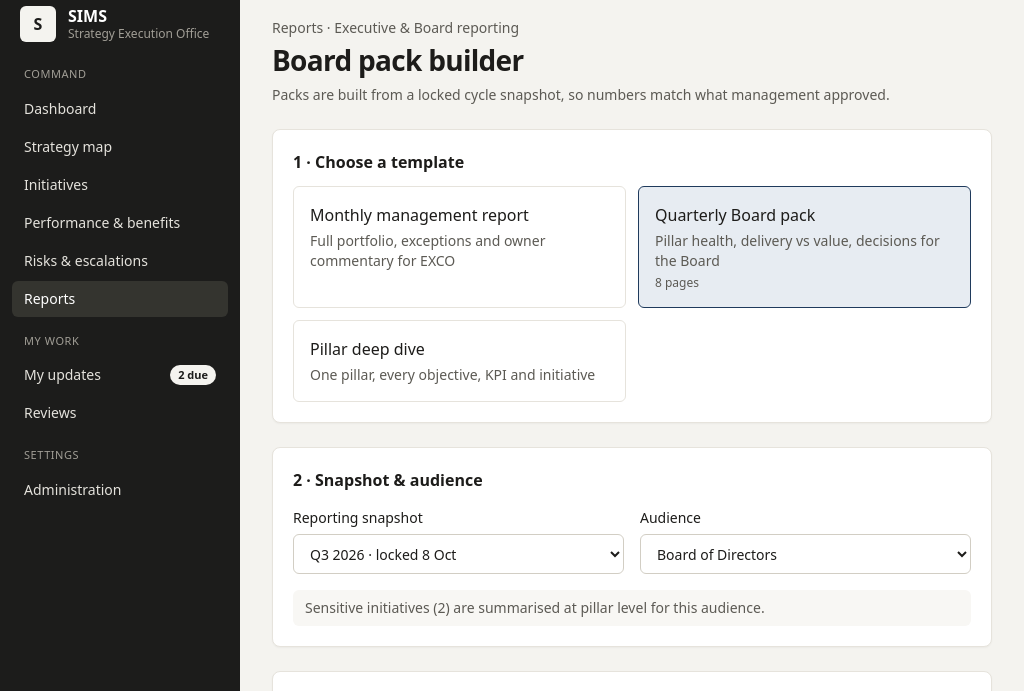
Test: Board pack builder › switches template, audience and default sections together
This screenshot has width=1024, height=691.
Click the radio button labelled "Monthly management report": (460, 247) [293, 186, 626, 308]
(page scrolled)
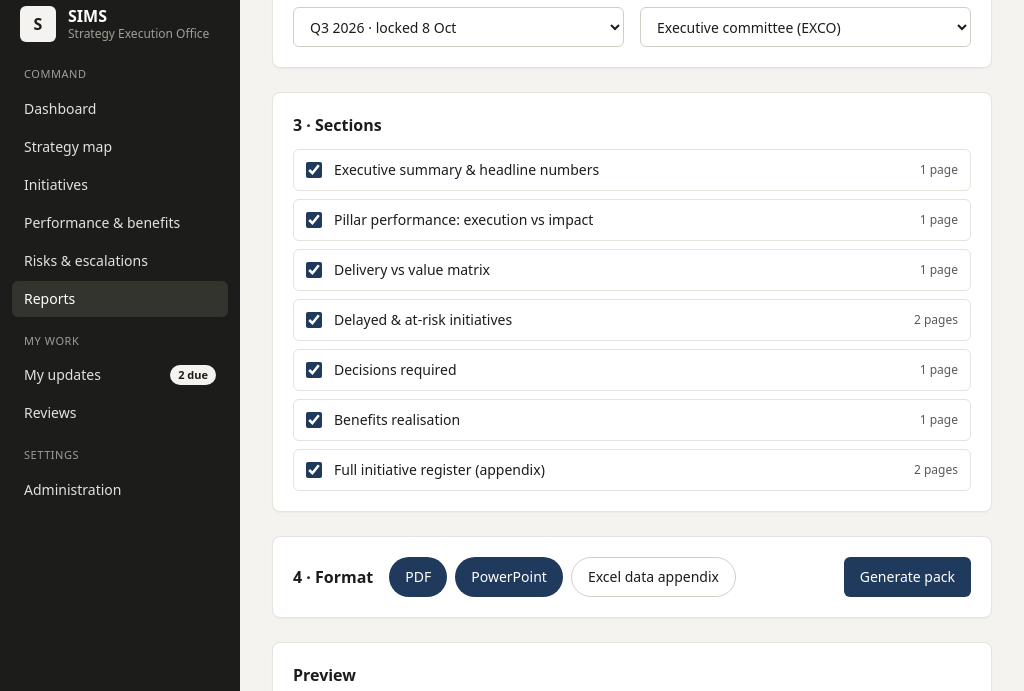
Expected: the checkbox named "Decisions required, 1 page" is shown, [306, 362, 322, 378]
Result: the dropdown labelled "Audience" shows "Executive committee (EXCO)" at [640, 7, 971, 47]
Result: the checkbox labelled "Full initiative register (appendix) 2 pages" is checked at [306, 462, 322, 478]
